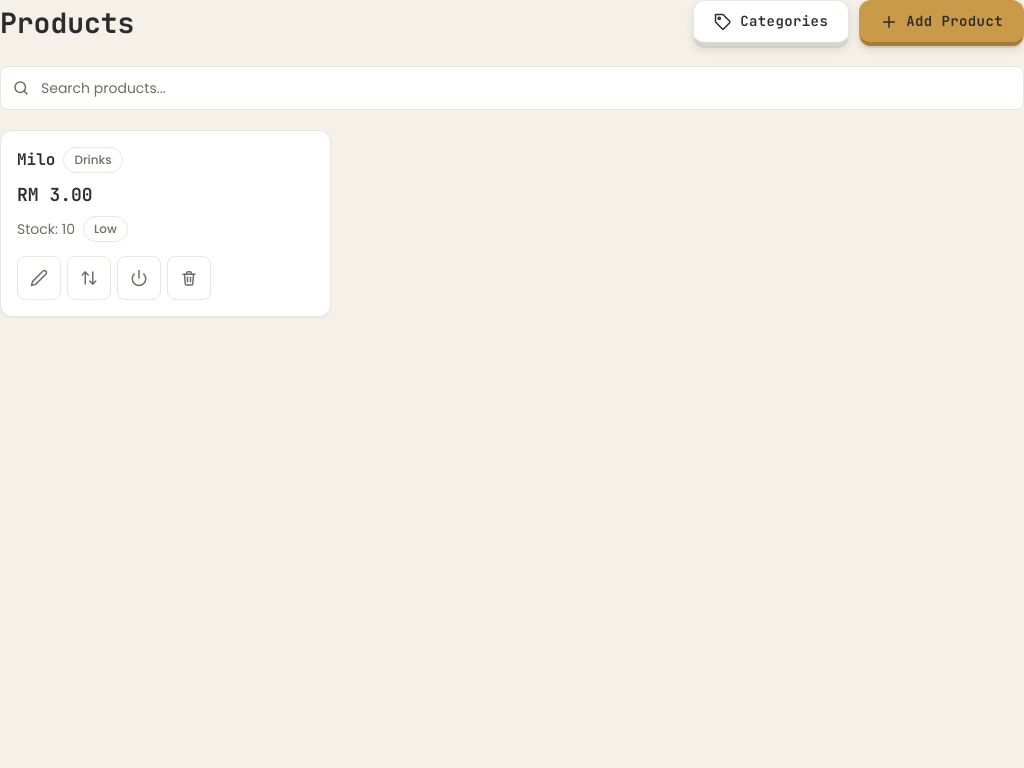
Test: ProductsPage › edits a product and persists the changes
The width and height of the screenshot is (1024, 768).
Click the button named "Edit Milo".
click(39, 278)  # box [17,256,61,300]
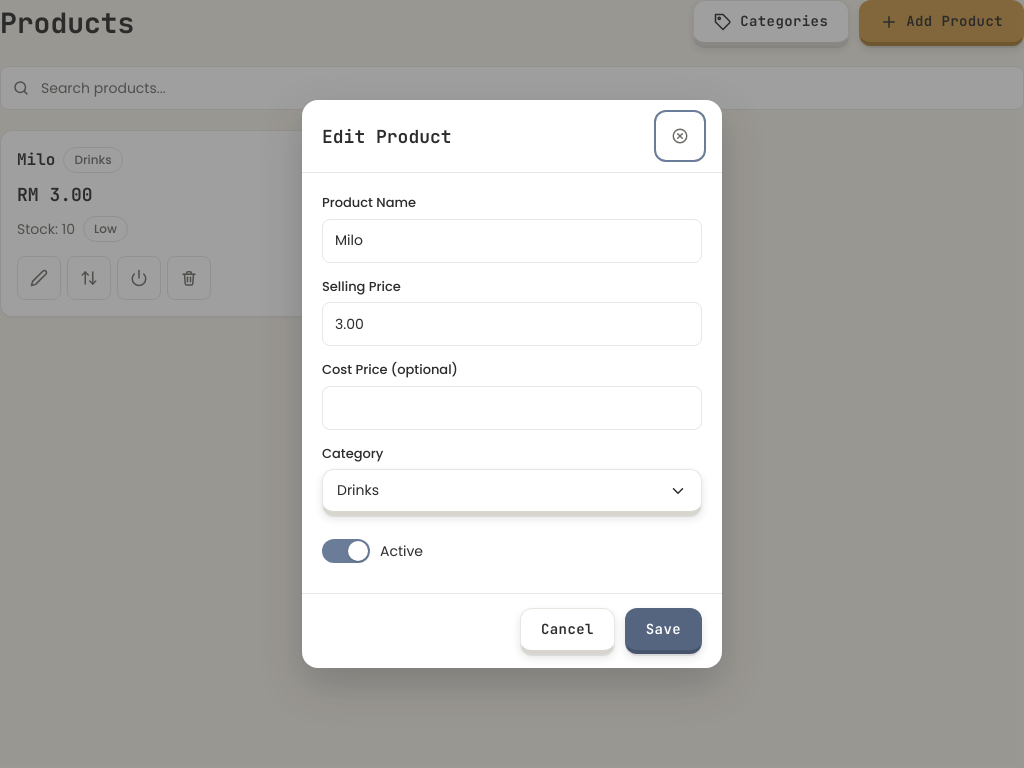
Replace the text in the field labelled "Product Name" with "Milo Ice" at (512, 240), box [322,218,702,262]
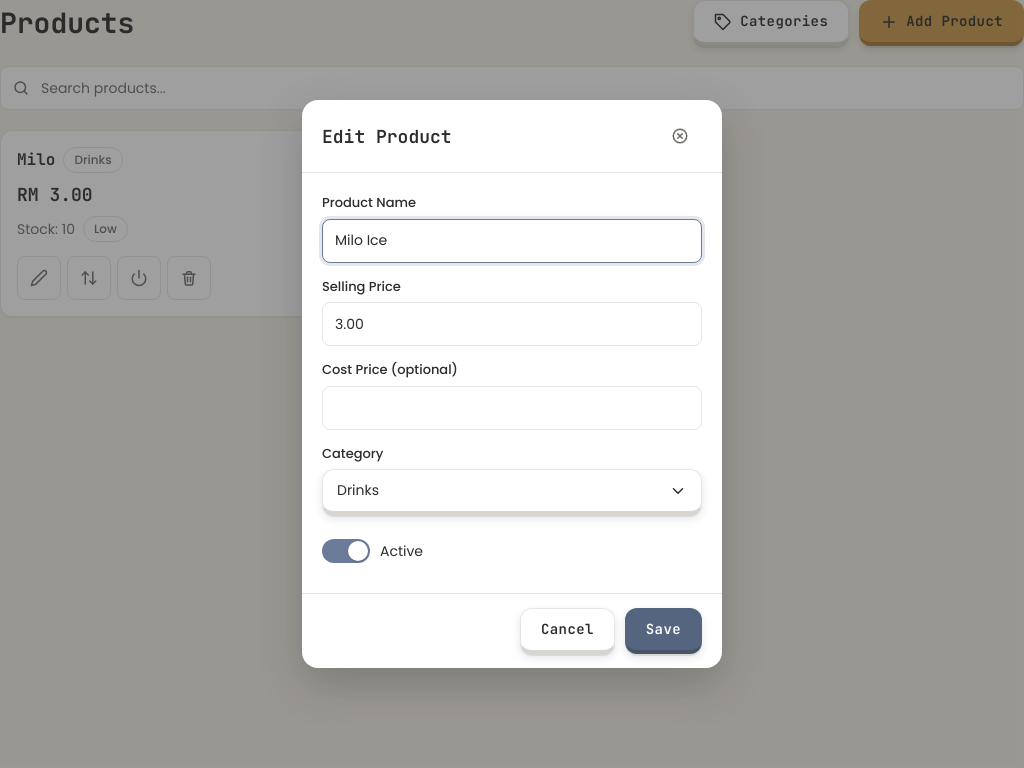
Replace the text in the field labelled "Selling Price" with "4.00" at (512, 324), box [322,302,702,346]
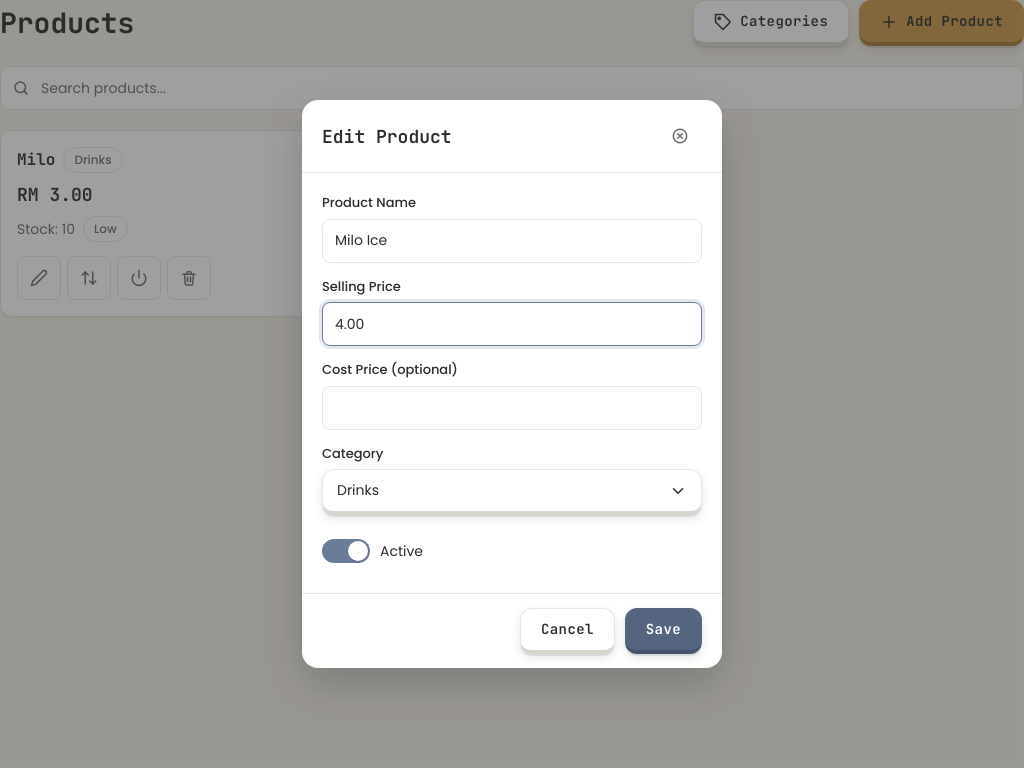
Click the button "Save".
click(663, 631)  # box [625,608,702,654]
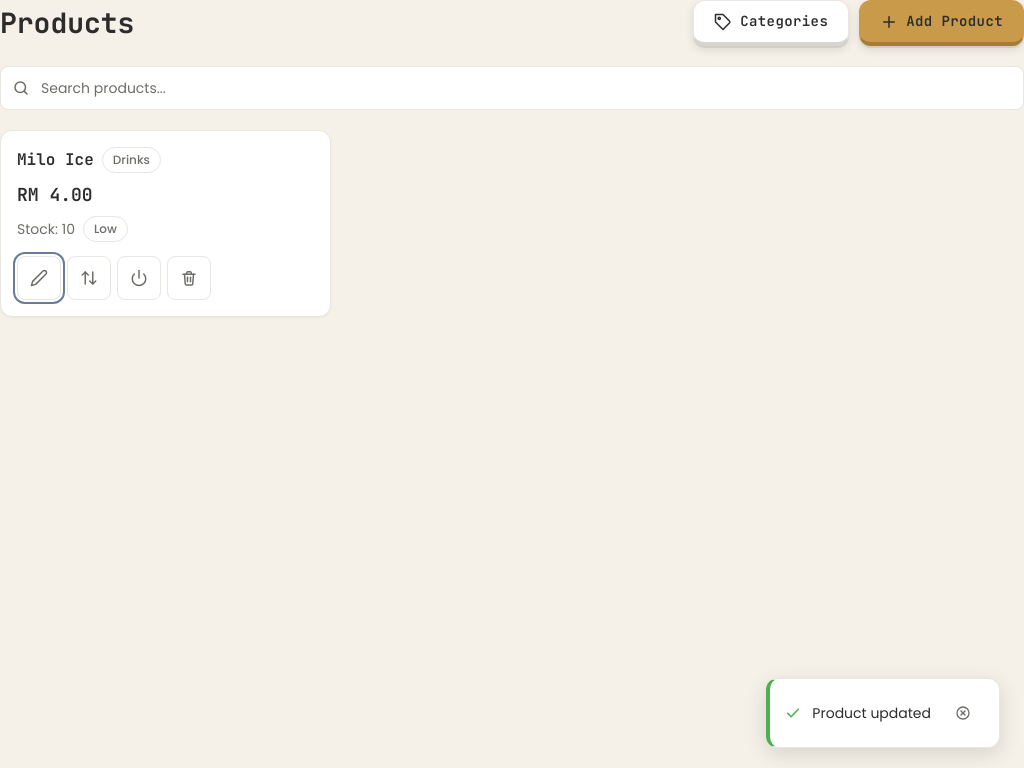
Result: the text "Product updated" is shown at [812,702,931,724]
Result: the heading "Milo Ice" is shown at [17,148,94,172]
